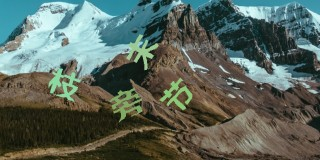旁: (110, 86, 144, 122)
末: (126, 34, 160, 71)
枝: (48, 68, 80, 101)
节: (160, 77, 193, 110)
